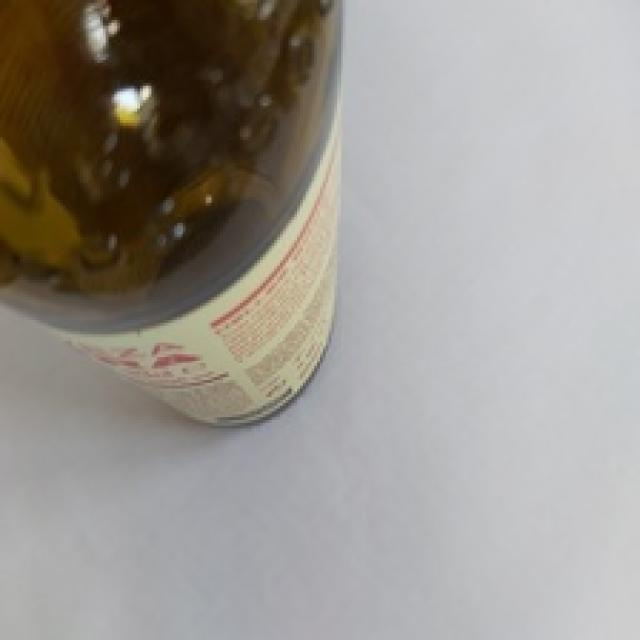Glass: (0, 0, 348, 432)
